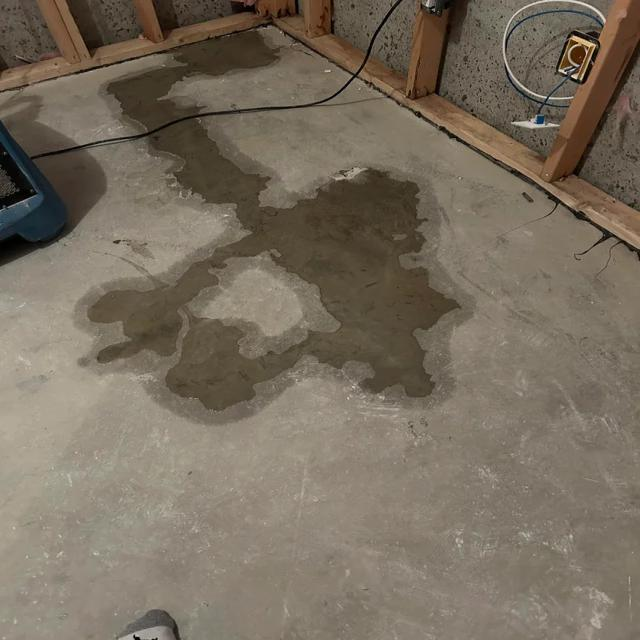water accumulation: (59, 34, 458, 411)
